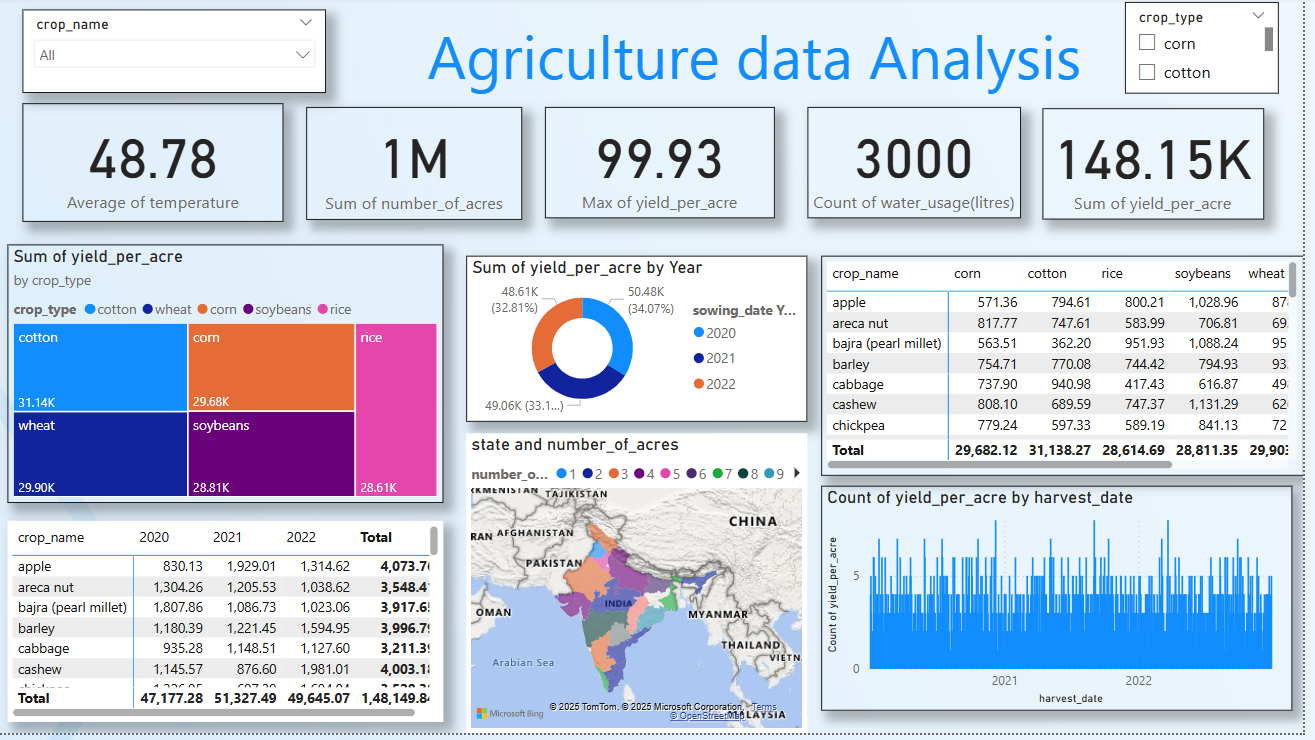

What the dashboard file says about the page in this screenshot:
{"tool":"powerbi","page":{"name":"Page 1","canvas":[1280,720],"ordinal":4},"visuals":[{"type":"pivotTable","fields":{"Rows":["Agriculture.crop_name"],"Values":["Sum(Agriculture.yield_per_acre)"],"Columns":["Agriculture.harvest_date.Variation.Date Hierarchy.Year","Agriculture.harvest_date.Variation.Date Hierarchy.Quarter","Agriculture.harvest_date.Variation.Date Hierarchy.Month","Agriculture.harvest_date.Variation.Date Hierarchy.Day"]},"box":[12.2,512.4,426.8,196.9],"z":0},{"type":"pivotTable","fields":{"Rows":["Agriculture.crop_name"],"Columns":["Agriculture.crop_type"],"Values":["Sum(Agriculture.yield_per_acre)"]},"box":[808.3,253.1,461,215.2],"z":1000},{"type":"card","fields":{"Values":["Sum(Agriculture.yield_per_acre)"]},"box":[1024.7,108.8,216.4,108.8],"z":2000},{"type":"slicer","fields":{"Values":["Agriculture.crop_name"]},"box":[26.9,12.2,297.1,81.9],"z":3000},{"type":"card","fields":{"Values":["Max(Agriculture.yield_per_acre)"]},"box":[538,107.6,225,108.8],"z":4000},{"type":"donutChart","fields":{"Category":["Agriculture.sowing_date.Variation.Date Hierarchy.Year","Agriculture.sowing_date.Variation.Date Hierarchy.Quarter","Agriculture.sowing_date.Variation.Date Hierarchy.Month","Agriculture.sowing_date.Variation.Date Hierarchy.Day"],"Y":["Sum(Agriculture.yield_per_acre)"]},"box":[461,253.1,333.8,162.6],"z":5000},{"type":"clusteredColumnChart","fields":{"Y":["Count(Agriculture.yield_per_acre)"],"Category":["Agriculture.harvest_date"]},"box":[808.3,478.1,461,220.1],"z":6000},{"type":"slicer","fields":{"Values":["Agriculture.crop_type"]},"box":[1105.4,4.9,150.4,89.3],"z":7000},{"type":"treemap","fields":{"Group":["Agriculture.crop_type"],"Values":["Sum(Agriculture.yield_per_acre)"]},"box":[12.2,242.1,426.8,253.1],"z":8000},{"type":"card","fields":{"Values":["CountNonNull(Agriculture.water_usage(litres))"]},"box":[794.8,107.6,209.1,108.8],"z":9000},{"type":"filledMap","fields":{"Category":["Agriculture.location Hierarchy.state"],"Series":["Agriculture.number_of_acres"]},"box":[461,426.5,333.8,293.5],"z":10000},{"type":"textbox","box":[364.4,12.2,722.7,81.9],"z":11000},{"type":"card","fields":{"Values":["Sum(Agriculture.number_of_acres)"]},"box":[304.5,107.6,211.6,110.1],"z":12000},{"type":"card","fields":{"Values":["Avg(Agriculture.temperature)"]},"box":[26.9,103.9,255.6,116.2],"z":13000}]}

Visuals, with their boxes in screenshot pixels (x1, y1, x2, y2), scaled from the page's 1280x720 canvas onto the 1315x740 screenshot:
pivotTable - Agriculture.crop_name x Sum(Agriculture.yield_per_acre): select_region(13, 527, 451, 729)
pivotTable - Agriculture.crop_name x Agriculture.crop_type: select_region(830, 260, 1304, 481)
card - Sum(Agriculture.yield_per_acre): select_region(1053, 112, 1275, 224)
slicer - Agriculture.crop_name: select_region(28, 13, 333, 97)
card - Max(Agriculture.yield_per_acre): select_region(553, 111, 784, 222)
donutChart - Agriculture.sowing_date.Variation.Date Hierarchy.Year x Agriculture.sowing_date.Variation.Date Hierarchy.Quarter: select_region(474, 260, 817, 427)
clusteredColumnChart - Count(Agriculture.yield_per_acre) x Agriculture.harvest_date: select_region(830, 491, 1304, 718)
slicer - Agriculture.crop_type: select_region(1136, 5, 1290, 97)
treemap - Agriculture.crop_type x Sum(Agriculture.yield_per_acre): select_region(13, 249, 451, 509)
card - CountNonNull(Agriculture.water_usage(litres)): select_region(817, 111, 1031, 222)
filledMap - Agriculture.location Hierarchy.state x Agriculture.number_of_acres: select_region(474, 438, 817, 739)
textbox: select_region(374, 13, 1117, 97)
card - Sum(Agriculture.number_of_acres): select_region(313, 111, 530, 224)
card - Avg(Agriculture.temperature): select_region(28, 107, 290, 226)
